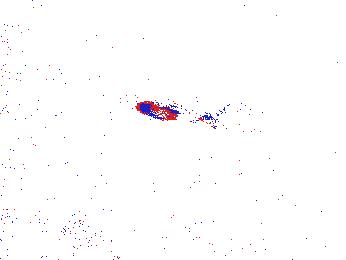X-ray fish: (54, 220, 102, 250)
red belly glassfish: (137, 100, 216, 125)
